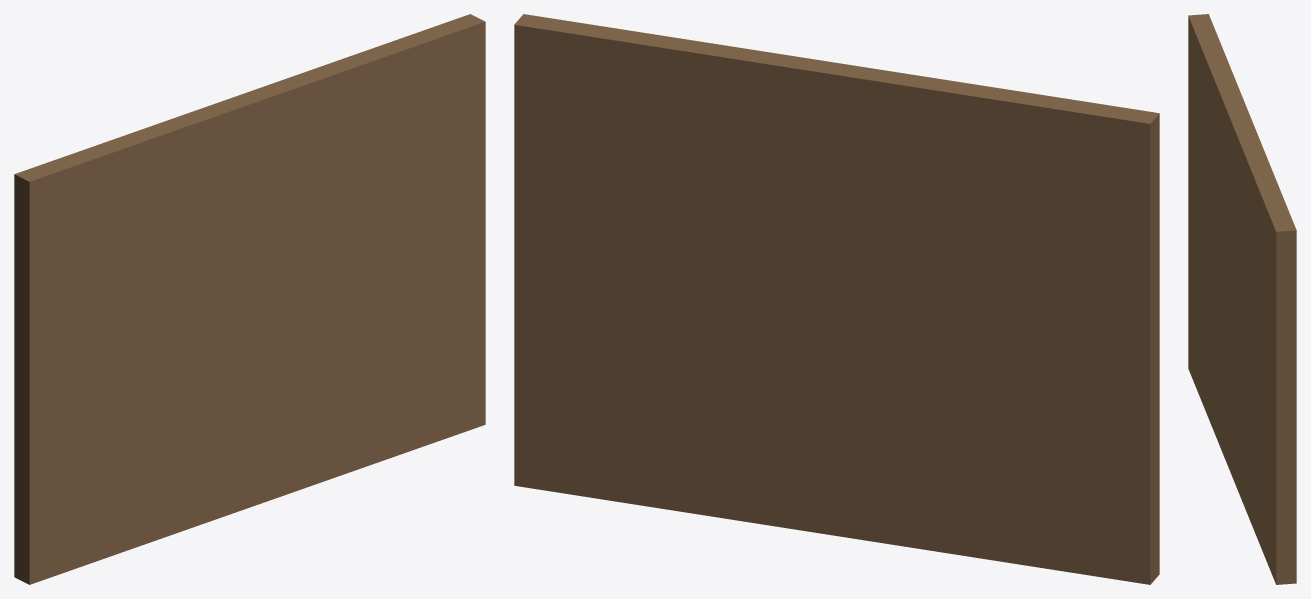
Rendered from terrain_ramp.glb.
3 renders of one model, left to right at view 1: azimuth 30°, elevation 25°; view 2: azimuth 150°, elevation 25°; view 3: azimuth 270°, elevation 25°, orthographic. The views are drawn at different scales.
Visible parts, largest first — view 1: ramp; view 2: ramp; view 3: ramp.
Part boxes in pixels (x1,y1,x2,y2): ramp: [14, 14, 485, 584]; ramp: [514, 14, 1159, 584]; ramp: [1188, 14, 1296, 584].
Bounding box in the file's own units: 3.97 × 3 × 0.8344.
